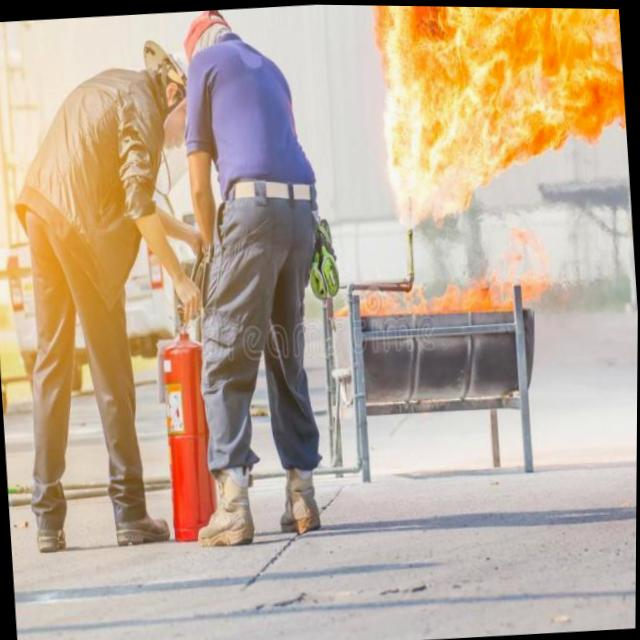FireExtinguisher: (151, 200, 253, 547)
